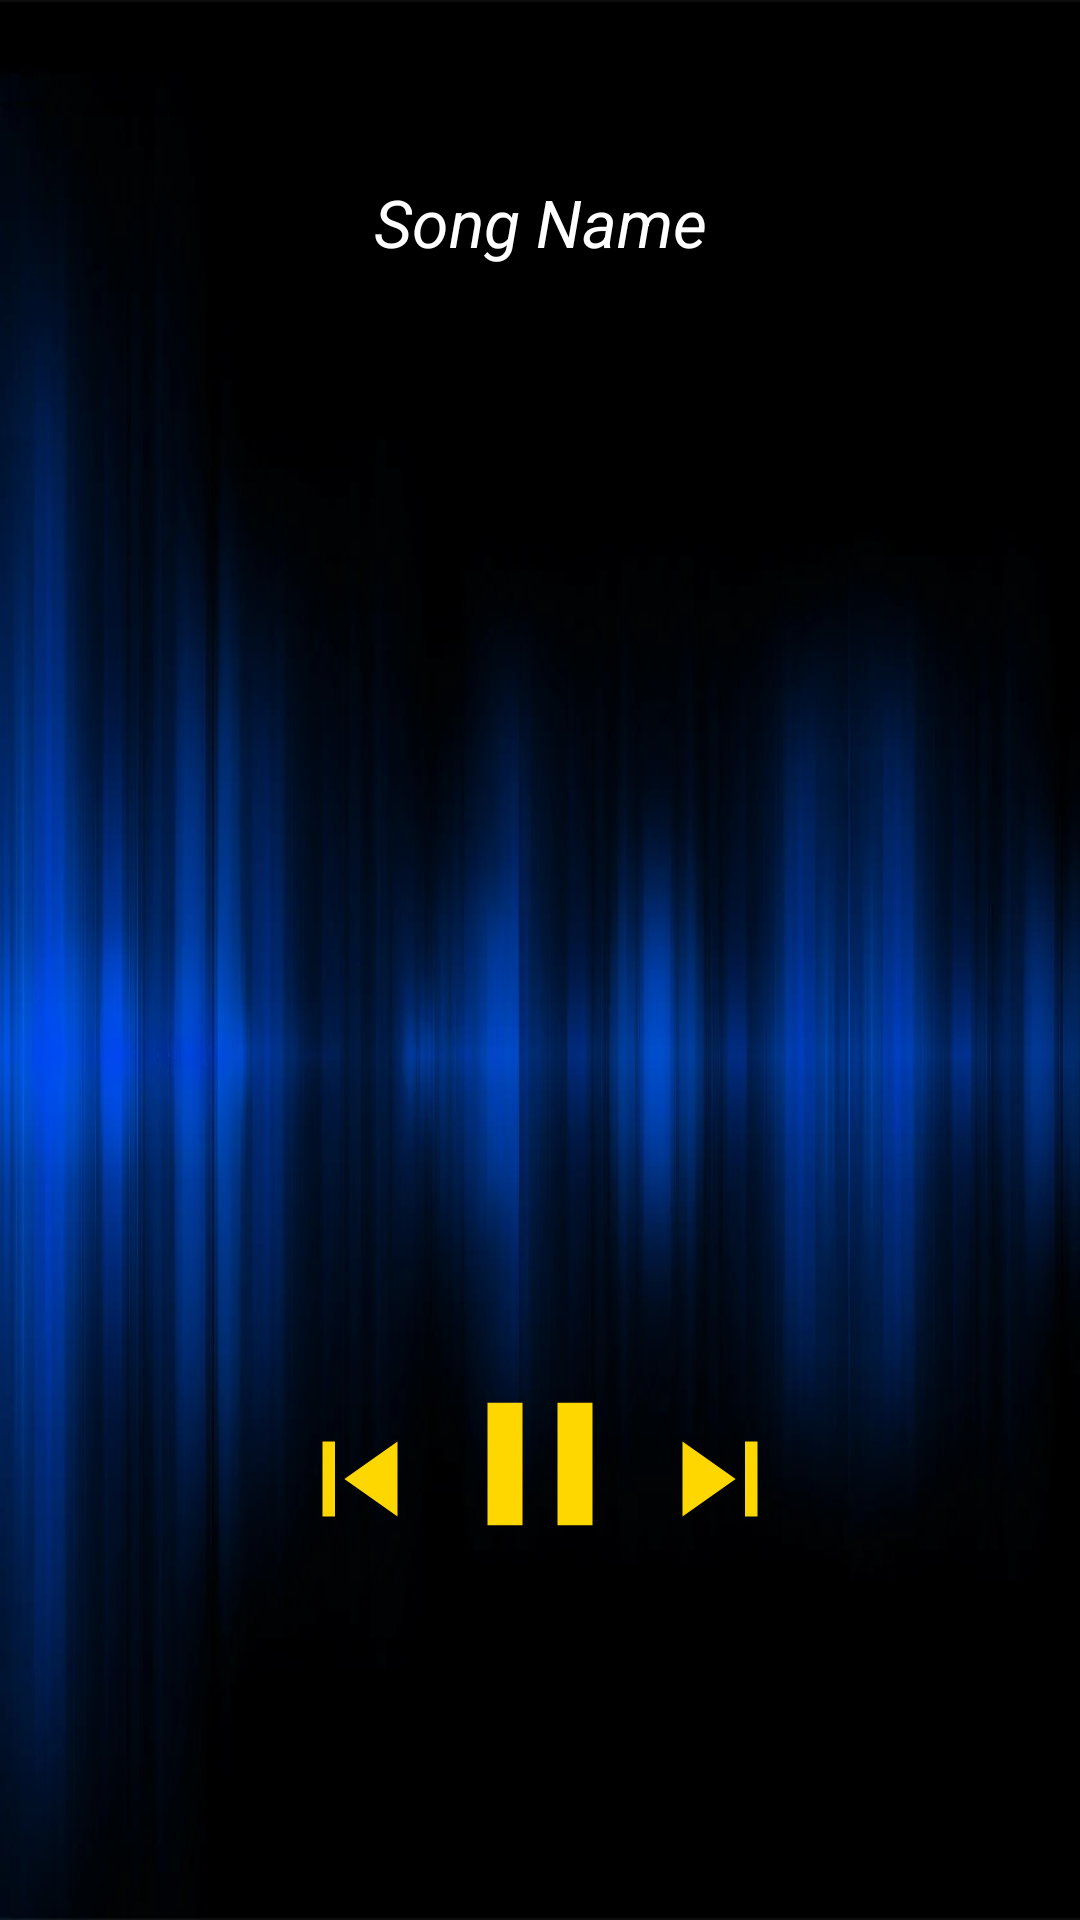

Screen size 1080*1920. Icon name, then its center in pixels as [x,y]:
next: [720,1479]
pause: [550,1442]
prev: [360,1479]
